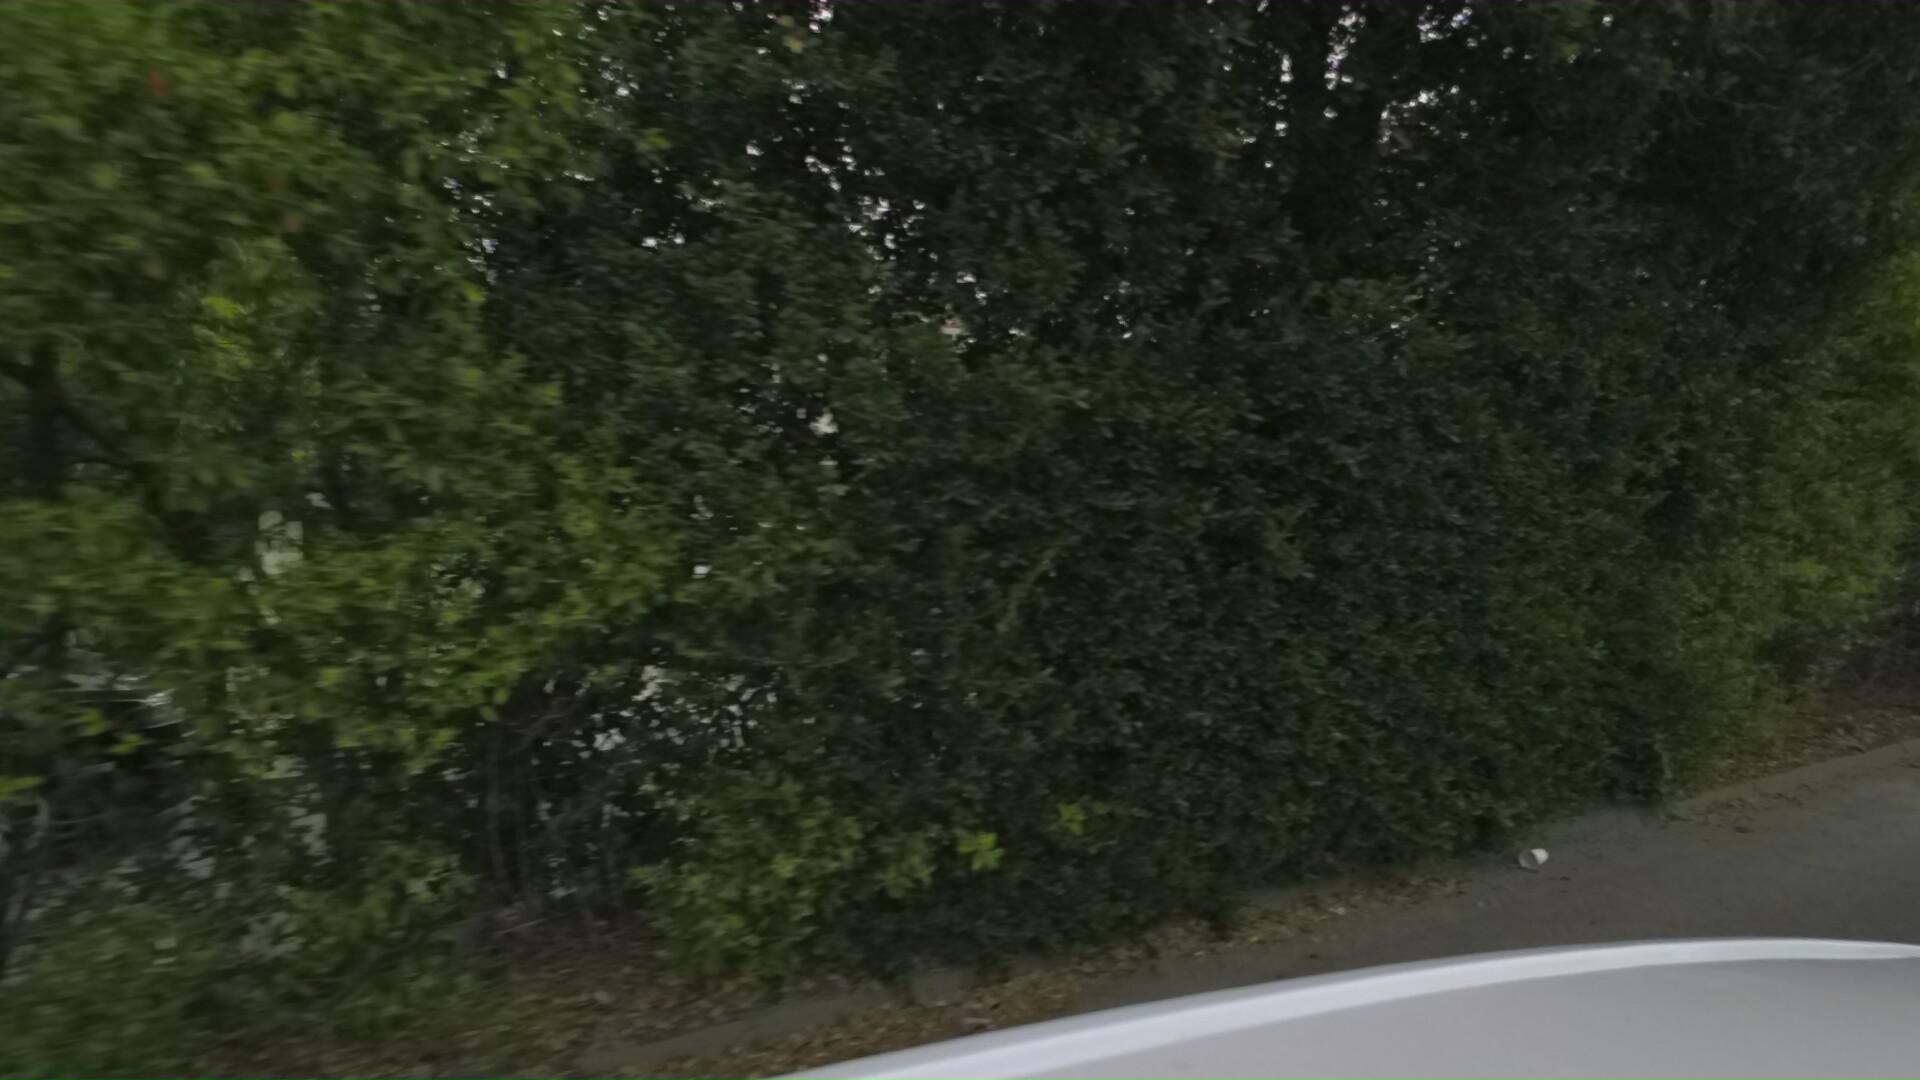car: (0, 587, 328, 1080)
